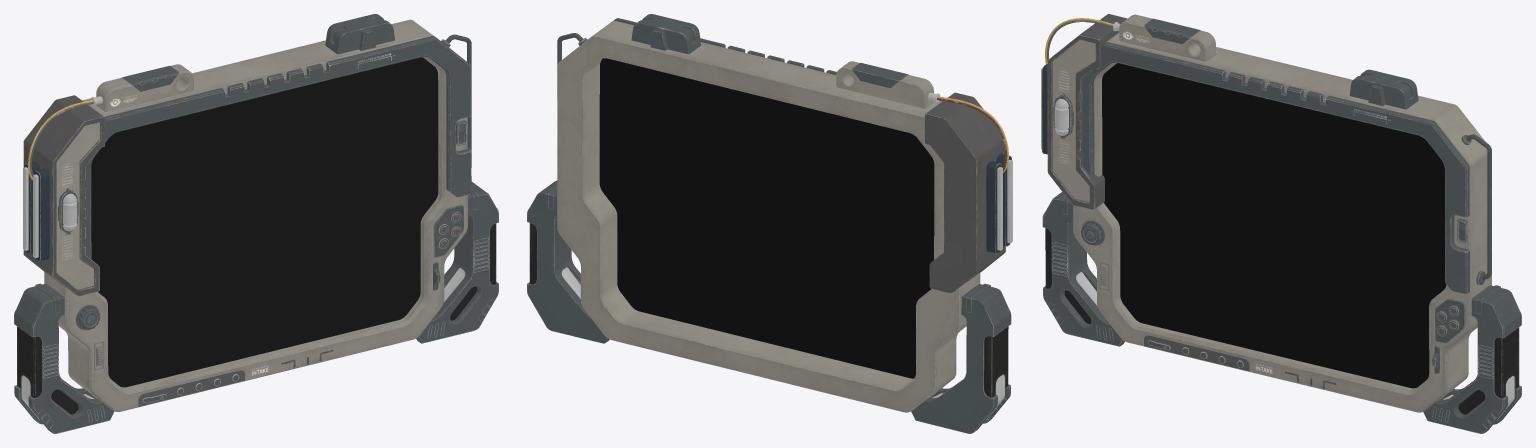
The model's file is window-transformed.glb.
The picture shows the model from 3 angles, left to right: view 1: azimuth 30°, elevation 25°; view 2: azimuth 150°, elevation 25°; view 3: azimuth 330°, elevation 25°; orthographic projection.
Parts seen in each view (by area): view 1: Object_3, Object_2; view 2: Object_3, Object_2; view 3: Object_3, Object_2.
Boxes of the visible parts, bbox=[...] form: Object_3: bbox=[91, 57, 438, 387]; Object_2: bbox=[14, 14, 498, 433]; Object_3: bbox=[599, 58, 934, 378]; Object_2: bbox=[527, 14, 1012, 433]; Object_3: bbox=[1102, 63, 1446, 388]; Object_2: bbox=[1041, 14, 1521, 433].
Size of the model in its own units: 2.61 by 1.76 by 0.3283.
2 materials, 1 textured.
